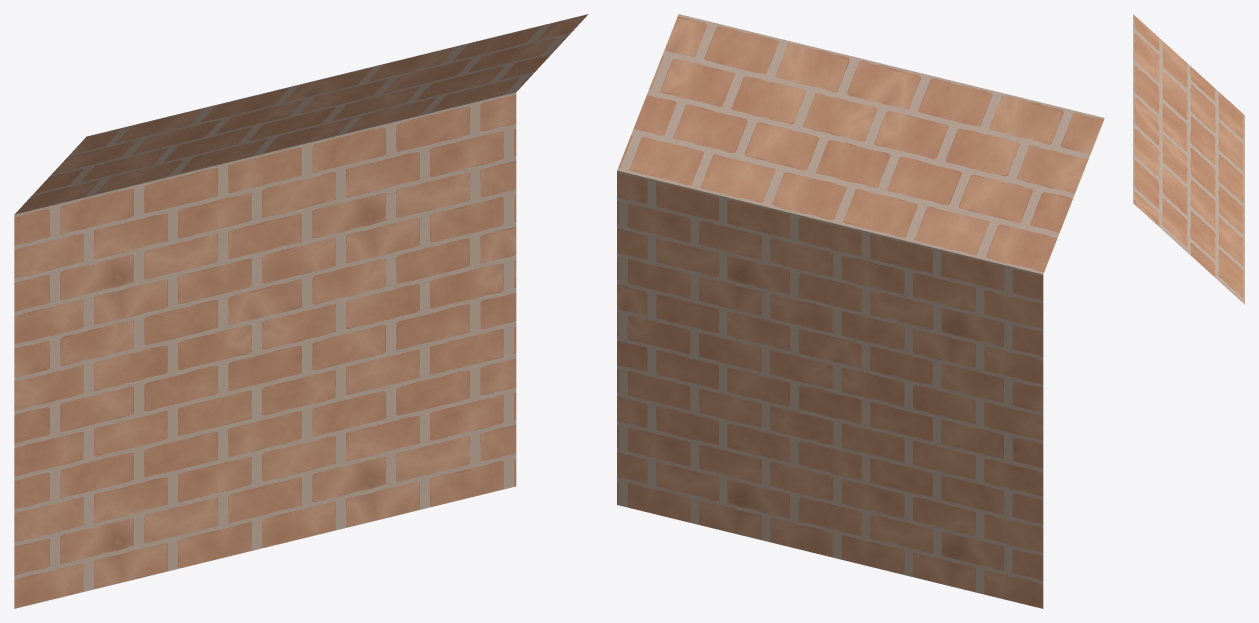
File: Top_Temp_Wall_Str.fbx
3 views of the same model, side by side, from view 1: azimuth 30°, elevation 25°; view 2: azimuth 150°, elevation 25°; view 3: azimuth 270°, elevation 25° (orthographic). The views are drawn at different scales.
Parts seen in each view (by area): view 1: Top_Temp_Wall_Str; view 2: Top_Temp_Wall_Str; view 3: Top_Temp_Wall_Str.
Boxes of the visible parts, <box> form: Top_Temp_Wall_Str: <box>14,14,588,608</box>; Top_Temp_Wall_Str: <box>617,14,1104,608</box>; Top_Temp_Wall_Str: <box>1133,14,1244,304</box>.
Size of the model in its own units: 100 by 100 by 25.
1 material, 1 textured.
